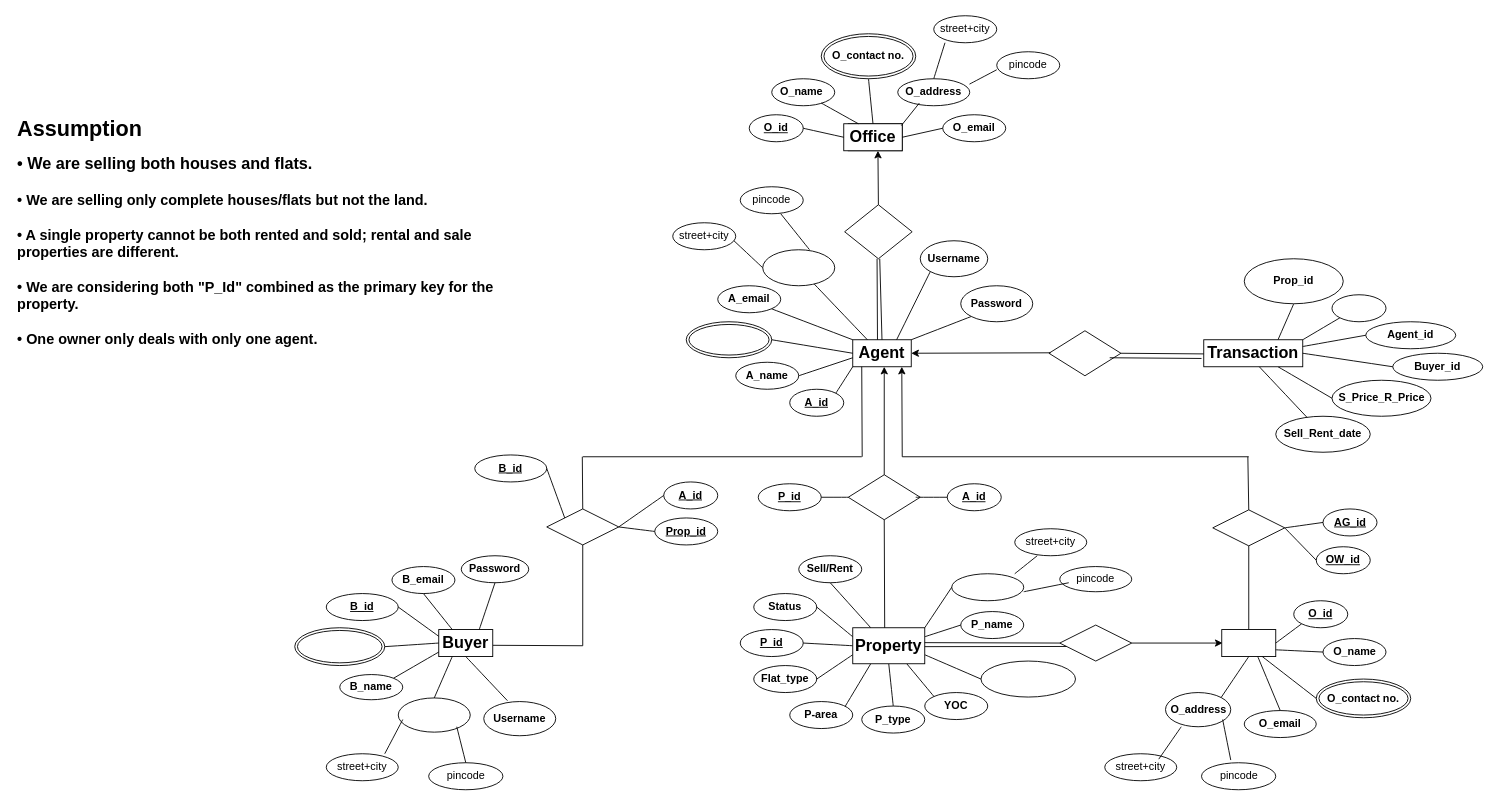
Some shapes in this 1499 by 806 pixel diagram are drawn without their labels. Each missing label, with the box of its shape:
A_address: (762, 249, 835, 286)
A_contact no.: (685, 321, 772, 358)
B_address: (397, 697, 470, 732)
B_contact no.: (294, 627, 385, 666)
Contact: (1212, 509, 1285, 546)
Deals: (546, 508, 619, 545)
Manages: (847, 474, 920, 520)
Owner: (1221, 629, 1276, 657)
Owns: (1059, 624, 1132, 661)
P-address: (951, 573, 1024, 601)
S_Price/R_Price: (980, 660, 1076, 697)
T_details: (1048, 330, 1121, 376)
T_id: (1331, 294, 1386, 322)
Works In: (844, 204, 912, 259)
